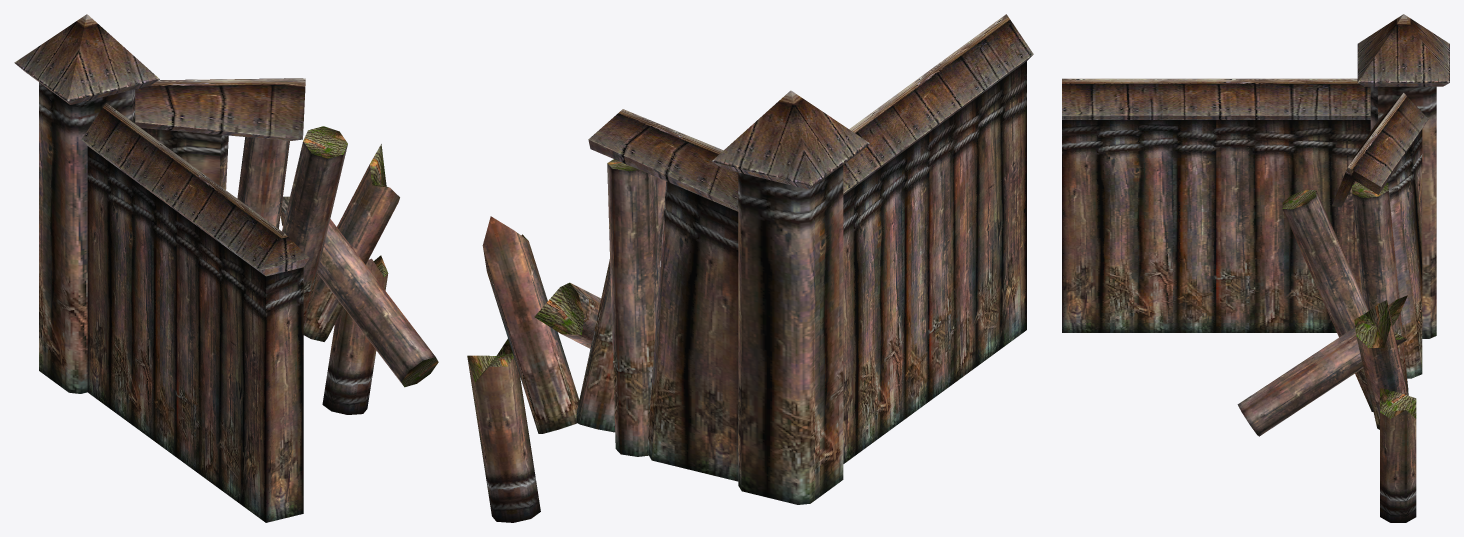
Rendered from S_RFCrn6.glb.
The picture shows the model from 3 angles, left to right: view 1: azimuth 30°, elevation 25°; view 2: azimuth 150°, elevation 25°; view 3: azimuth 270°, elevation 25°; orthographic projection. The views are drawn at different scales.
Parts seen in each view (by area): view 1: S_RFCrn6-col; view 2: S_RFCrn6-col; view 3: S_RFCrn6-col.
Part boxes in pixels (x1=…): S_RFCrn6-col: x1=14, y1=14, x2=438, y2=522; S_RFCrn6-col: x1=467, y1=14, x2=1033, y2=522; S_RFCrn6-col: x1=1062, y1=14, x2=1449, y2=522.
Bounding box in the file's own units: 4.64 × 5.92 × 5.28.
Materials: 4 (4 with a texture image).
